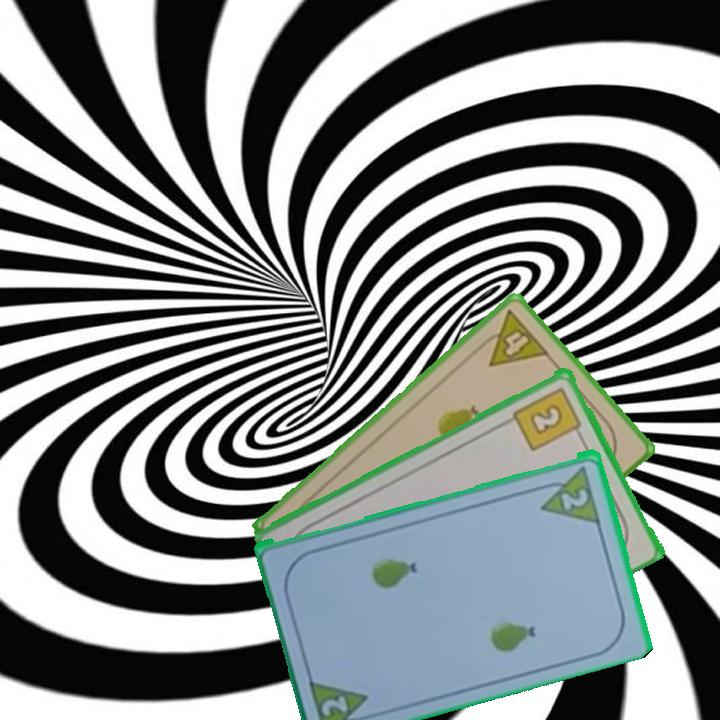2b: (510, 383, 586, 453)
2p: (317, 691, 352, 719), (558, 484, 592, 512)
4p: (472, 305, 552, 370)
